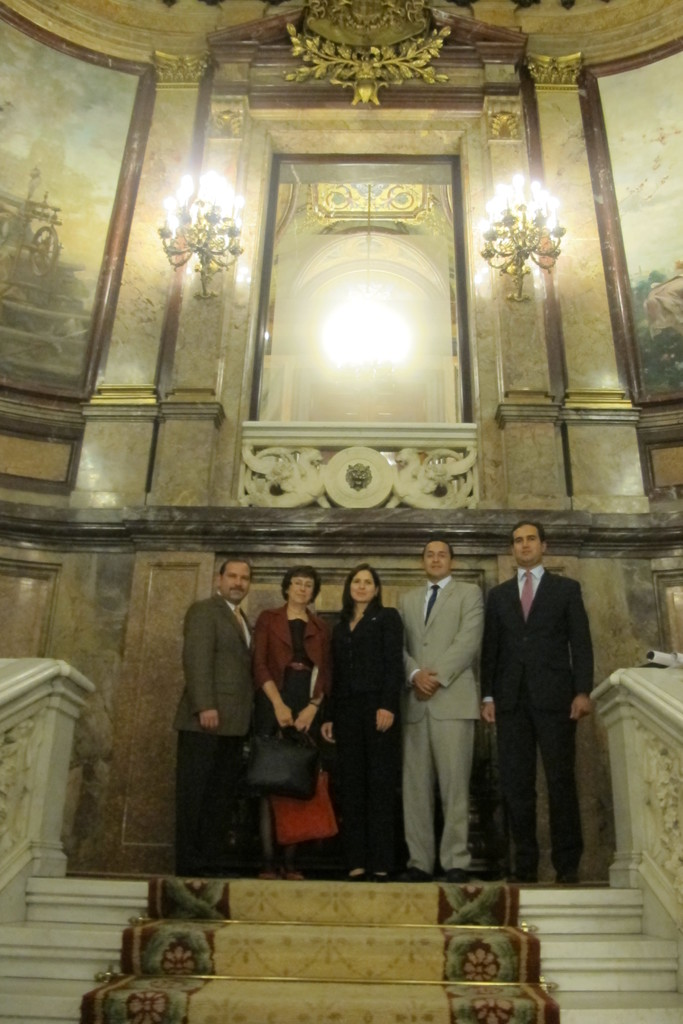Person: (172, 520, 593, 883)
